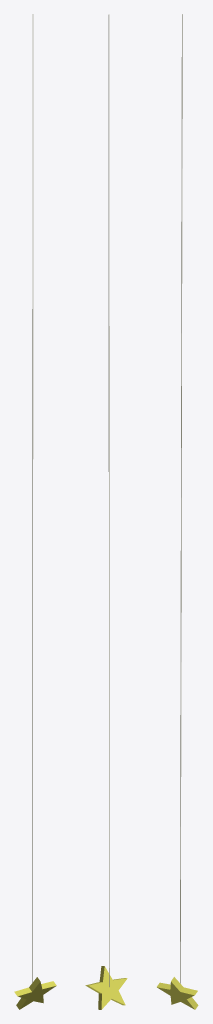
Rendered from star.fbx.
3 renders of one model, left to right at view 1: azimuth 30°, elevation 25°; view 2: azimuth 210°, elevation 25°; view 3: azimuth 330°, elevation 25°, orthographic.
Visible parts, largest first — view 1: star; view 2: star; view 3: star.
Boxes of the visible parts, x1=… form: star: x1=14, y1=14, x2=56, y2=1009; star: x1=85, y1=14, x2=127, y2=1009; star: x1=157, y1=14, x2=198, y2=1009.
Size of the model in its own units: 0.2054 by 5.02 by 0.1298.
